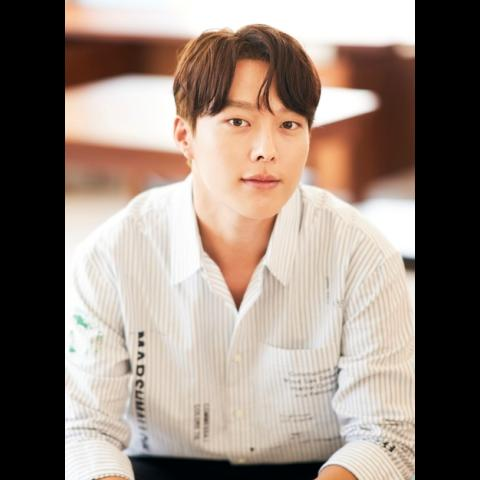opened: (202, 92, 312, 145)
